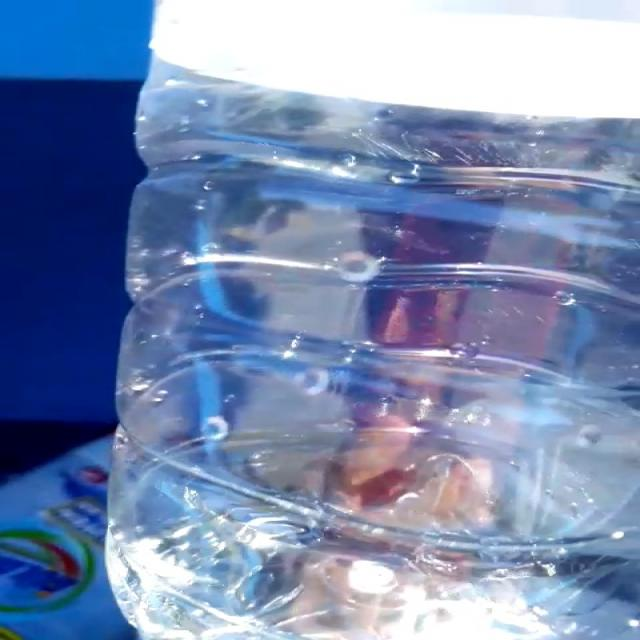plastic: (108, 0, 640, 640)
